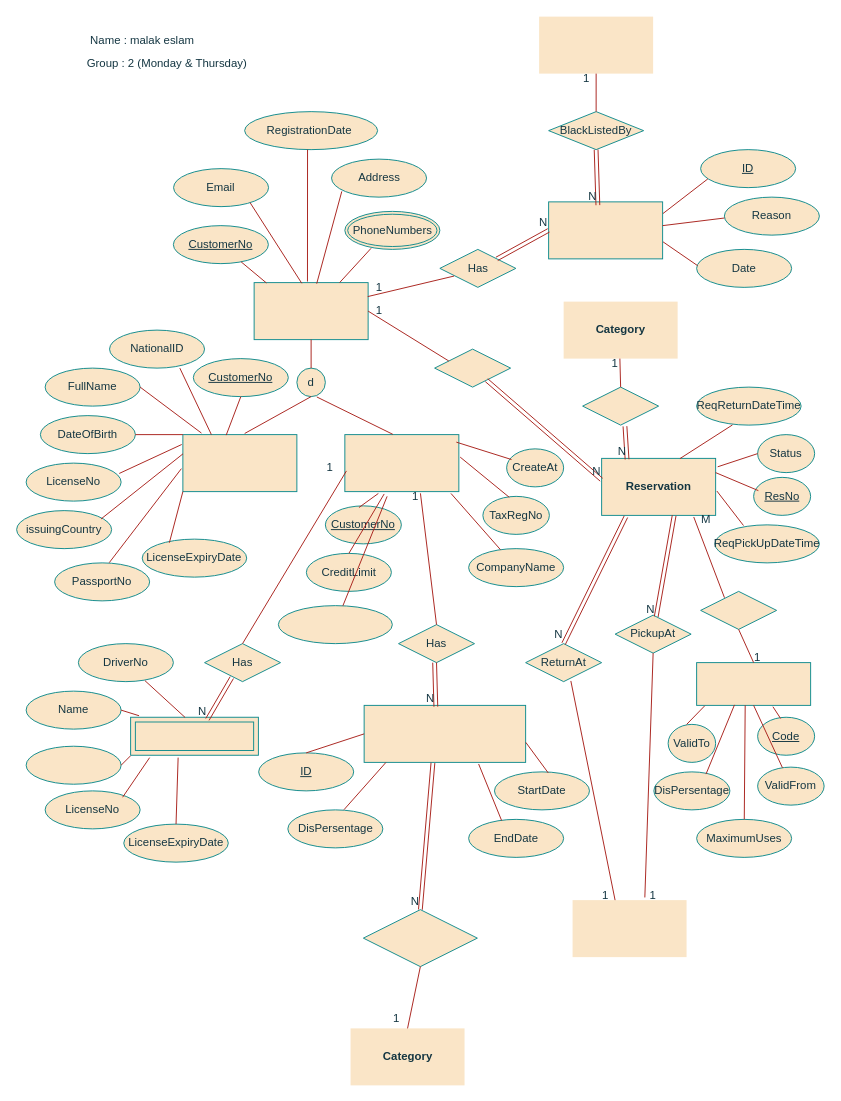
Some shapes in this 841 by 1101 pixel diagram are drawn without their labels. The shapes that lost their labels are listed below. From the top down, each one's centre as x and y in pixels, then its label:
At [596,44]: "Employee".
At [605,230]: "BlackList".
At [310,311]: "Customer".
At [472,367]: "makes".
At [620,405]: "Requests".
At [239,463]: "Individual_Customer".
At [401,463]: "Corporate_Customer".
At [334,624]: "ContactPersonName".
At [738,609]: "Uses".
At [753,683]: "Promotion".
At [194,735]: "Authorized_Driver".
At [444,733]: "Coparation_Cat_Discount".
At [73,764]: "Phone".
At [419,938]: "AppliesTo".
At [629,928]: "Branch".
